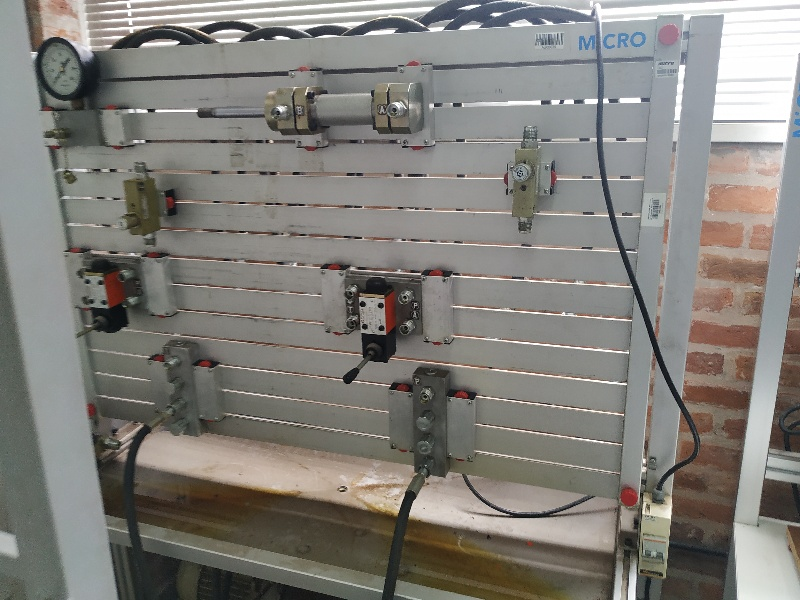Tablero 5: (29, 48, 653, 521)
